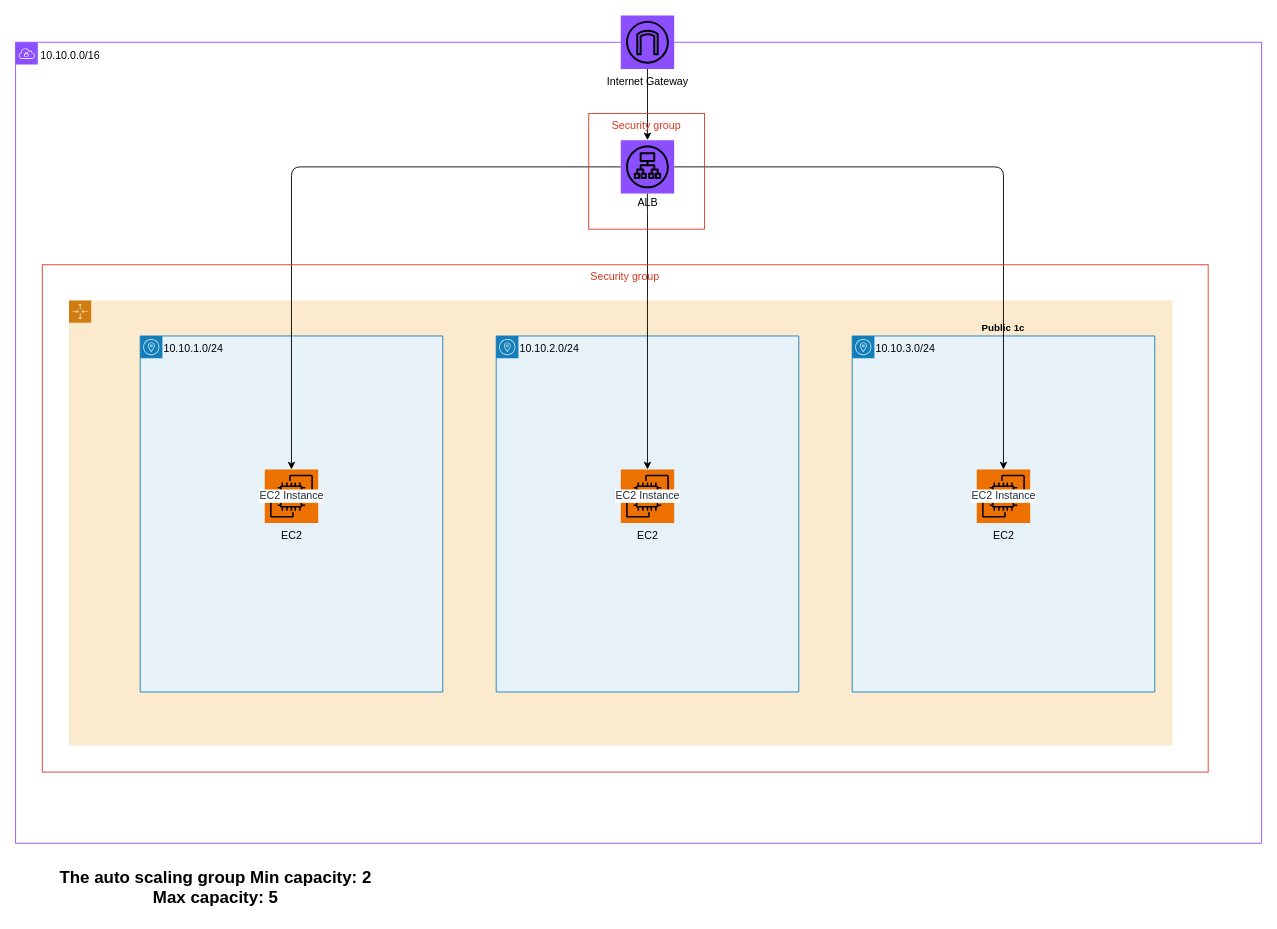
This 1277x929 diagram has some shape labels left out. The box of each missing label's shape, as (x1, y1, x2, y2) in pixels:
Auto Scaling Group: (68, 299, 1173, 745)
Public 1a: (139, 335, 443, 692)
Public 1b: (495, 335, 799, 692)
